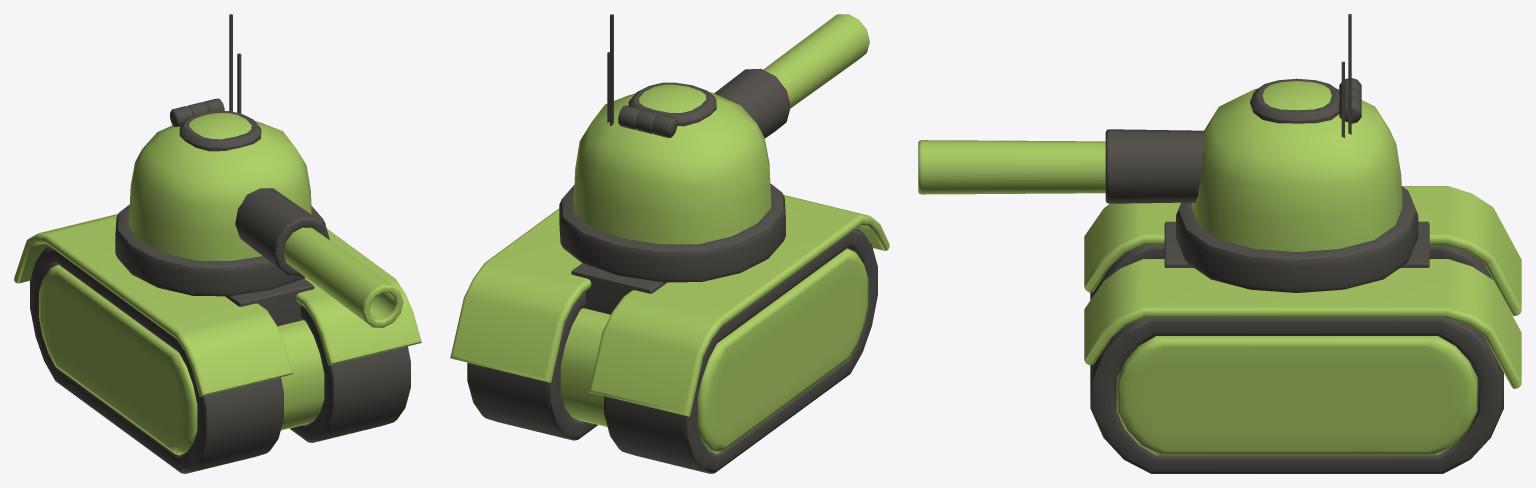
File: Tank_Model.fbx
The picture shows the model from 3 angles, left to right: view 1: azimuth 30°, elevation 25°; view 2: azimuth 150°, elevation 25°; view 3: azimuth 270°, elevation 25°; orthographic projection. The views are drawn at different scales.
Visible parts, largest first — view 1: Tank_Body, Tank_Turret, Tank_Turret_Recoil; view 2: Tank_Body, Tank_Turret, Tank_Turret_Recoil; view 3: Tank_Body, Tank_Turret, Tank_Turret_Recoil.
Boxes of the visible parts, box(x1,y1,x2,y2) form: Tank_Body: box(14, 214, 421, 473); Tank_Turret: box(115, 14, 329, 296); Tank_Turret_Recoil: box(283, 227, 403, 327); Tank_Body: box(450, 195, 889, 473); Tank_Turret: box(559, 14, 790, 282); Tank_Turret_Recoil: box(763, 14, 869, 108); Tank_Body: box(1084, 186, 1521, 473); Tank_Turret: box(1105, 14, 1418, 292); Tank_Turret_Recoil: box(918, 140, 1105, 194).
Bounding box in the file's own units: 155 × 245 × 317.
